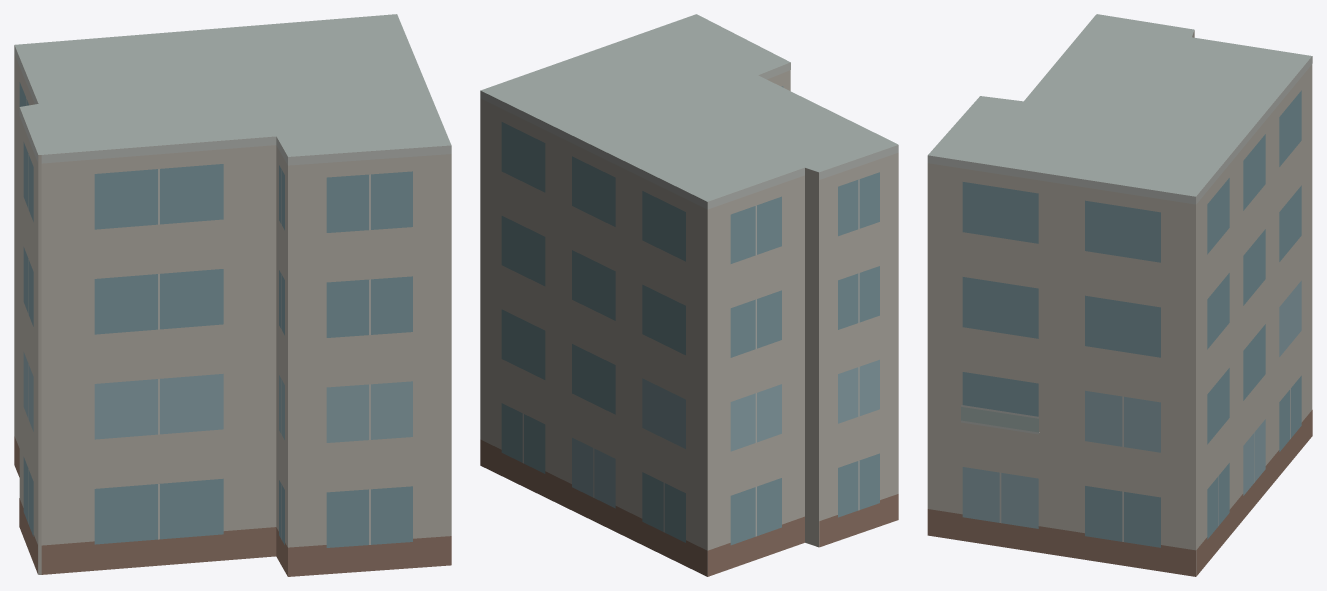
The model's file is survey-upis-32812717.glb.
3 renders of one model, left to right at view 1: azimuth 30°, elevation 25°; view 2: azimuth 150°, elevation 25°; view 3: azimuth 270°, elevation 25°, orthographic. The views are drawn at different scales.
Visible parts, largest first — view 1: survey-upis-32812717.tmp; view 2: survey-upis-32812717.tmp; view 3: survey-upis-32812717.tmp.
Part boxes in pixels (x1=…): survey-upis-32812717.tmp: x1=14, y1=14, x2=451, y2=576; survey-upis-32812717.tmp: x1=480, y1=14, x2=898, y2=576; survey-upis-32812717.tmp: x1=927, y1=14, x2=1312, y2=576.
Size of the model in its own units: 12.23 by 11.85 by 10.88.
